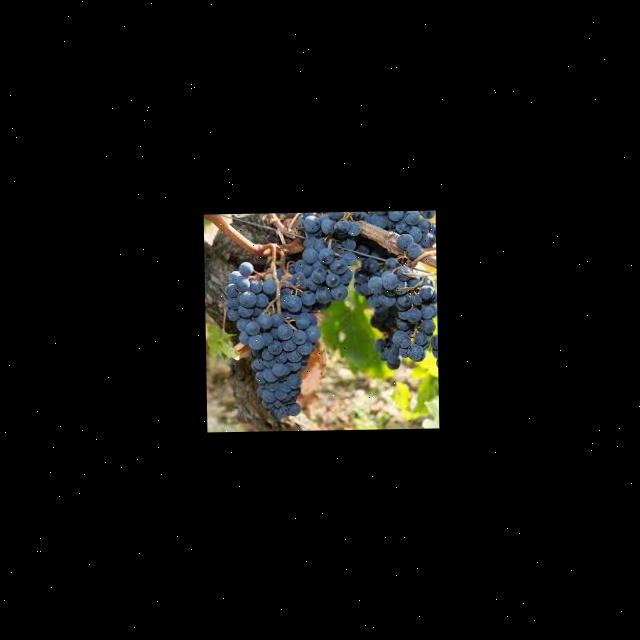grape: (221, 209, 438, 419)
